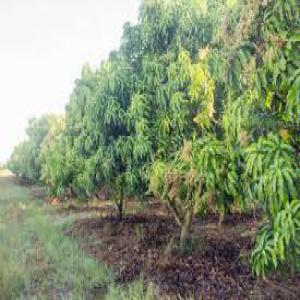Tree: (122, 4, 285, 252), (40, 49, 141, 228)
